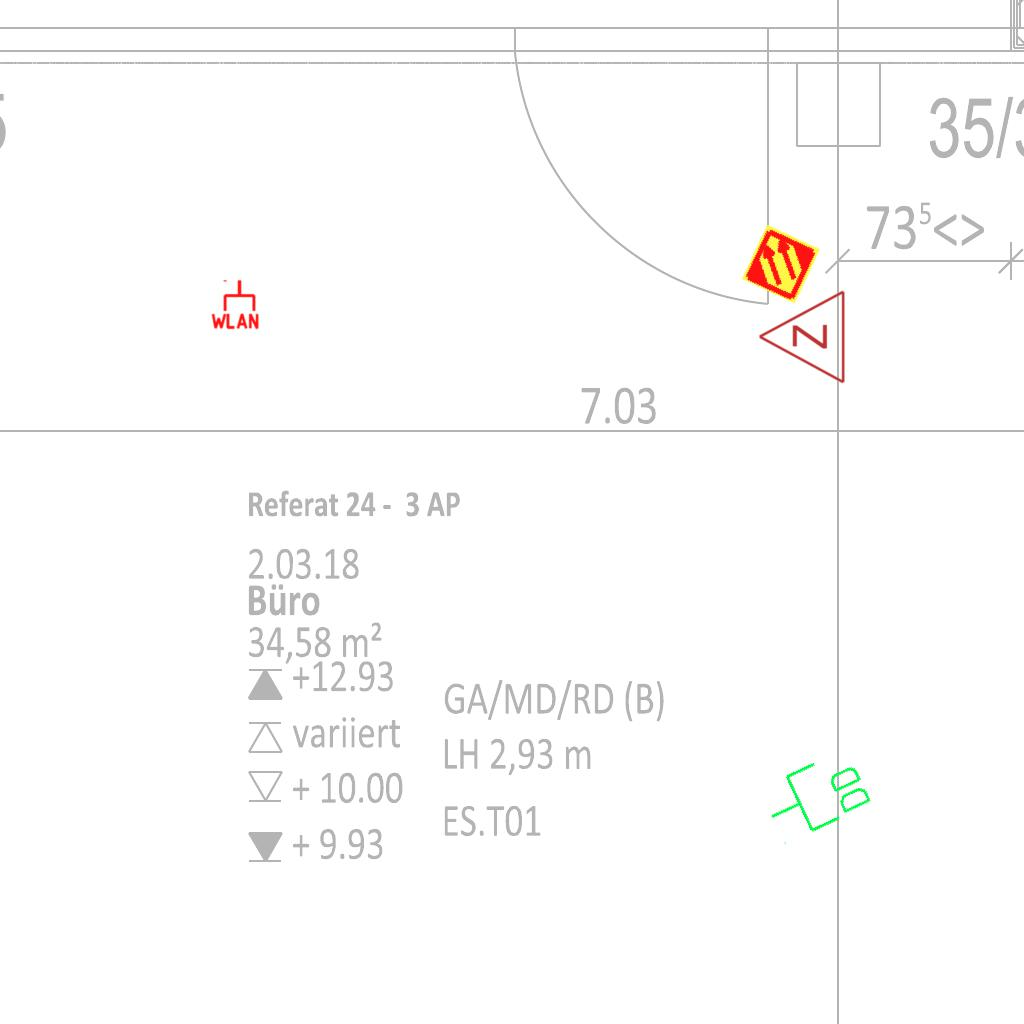ASR_Ansaugrauchmelder: (739, 222, 823, 306)
Datenanschluss_zweifach: (755, 743, 878, 850)
WLAN: (209, 278, 261, 330)
Zimmersignalleuchte: (752, 289, 852, 387)
